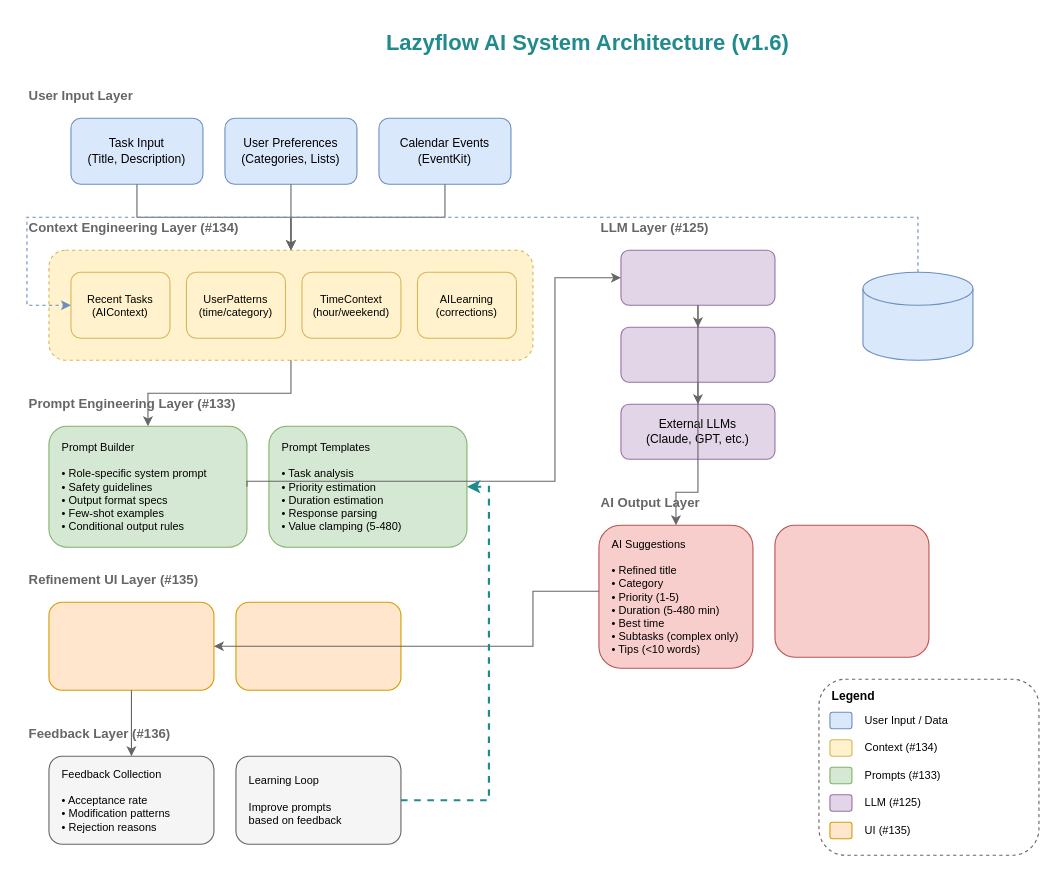
Some shapes in this 1058 by 875 pixel diagram are drawn without their labels. The shapes that lost their labels are listed below. From the top down, each one's box as (x1, y1, x2, y2) in pixels, then its label:
(620, 249, 775, 305): LLM Router (Open Responses)
(862, 271, 973, 360): Core Data + CloudKit
(620, 326, 775, 382): Apple Intelligence (On-Device)
(774, 524, 929, 657): Category Proposal (#139) Suggest new category when none match
(48, 601, 214, 690): Suggestion Cards Accept / Modify / Reject each AI suggestion
(235, 601, 401, 690): Inline Editing Tap to modify AI suggestions
